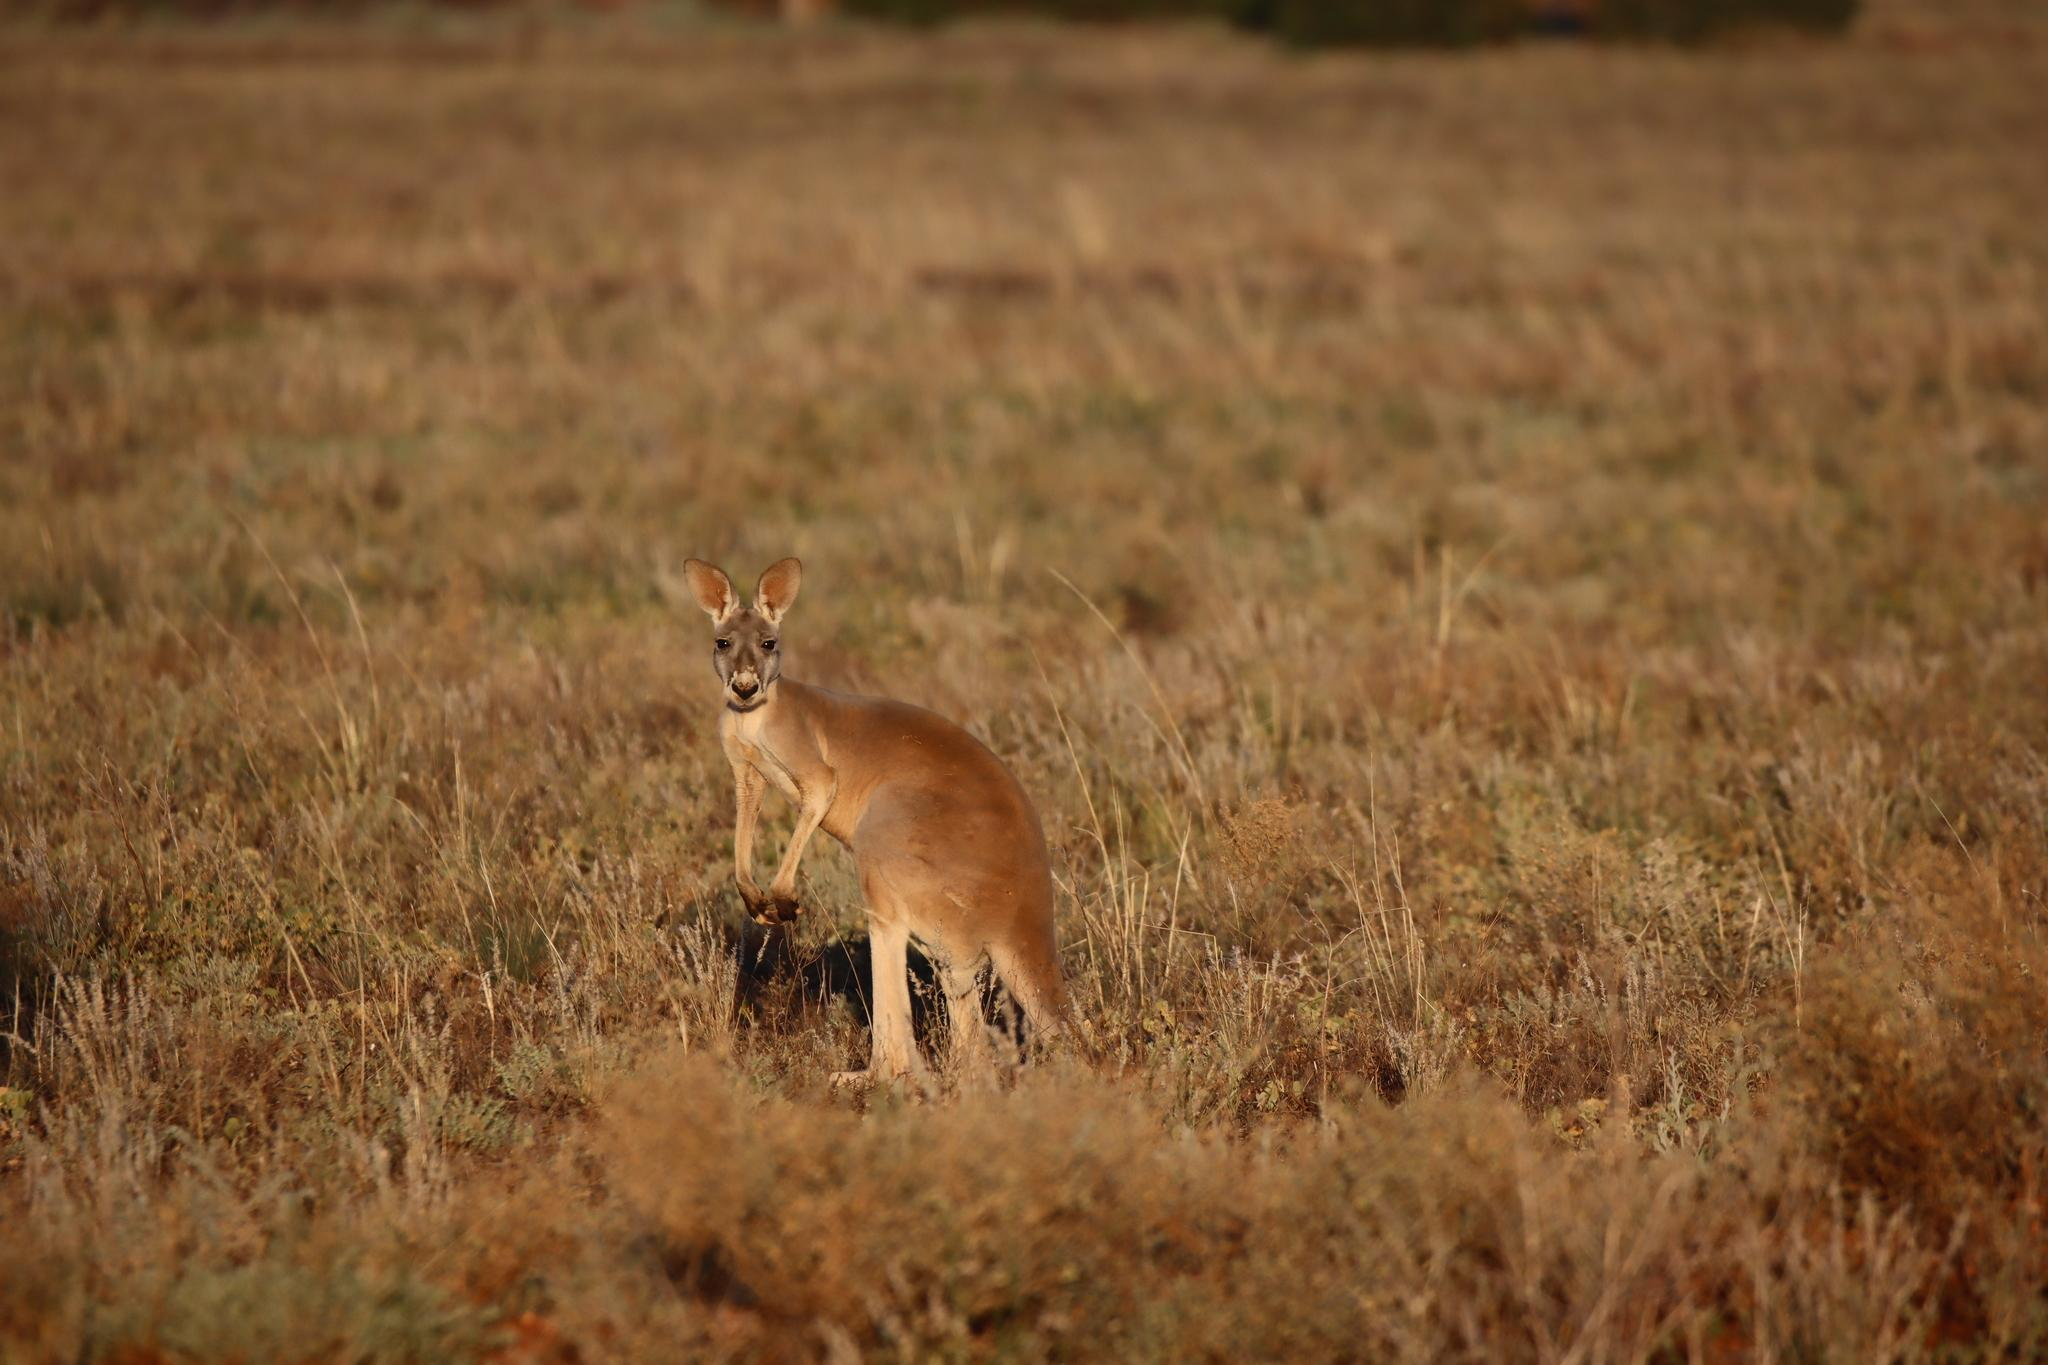Red kangaroo: (675, 556, 1169, 1089)
